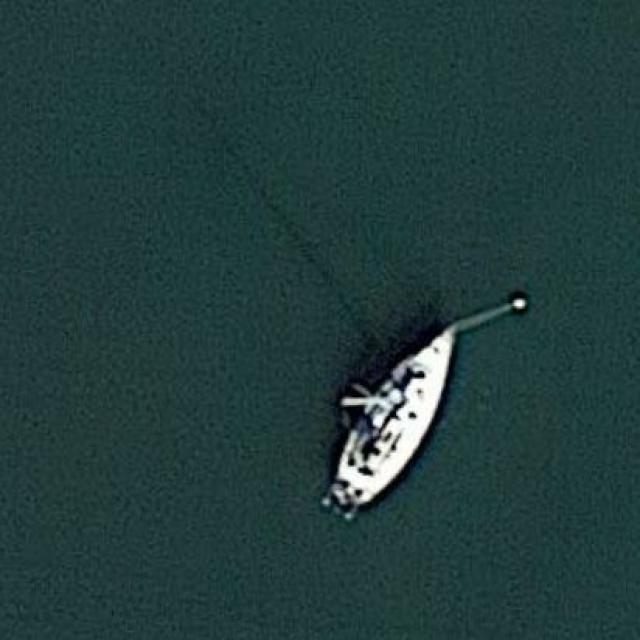ship: (332, 314, 462, 515)
